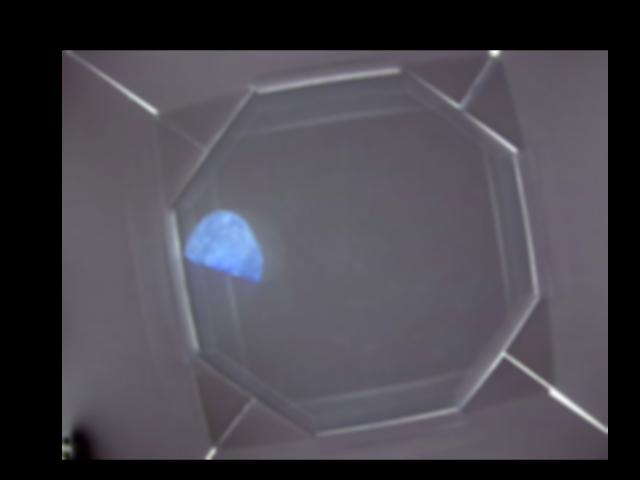Potato: (184, 212, 262, 282)
